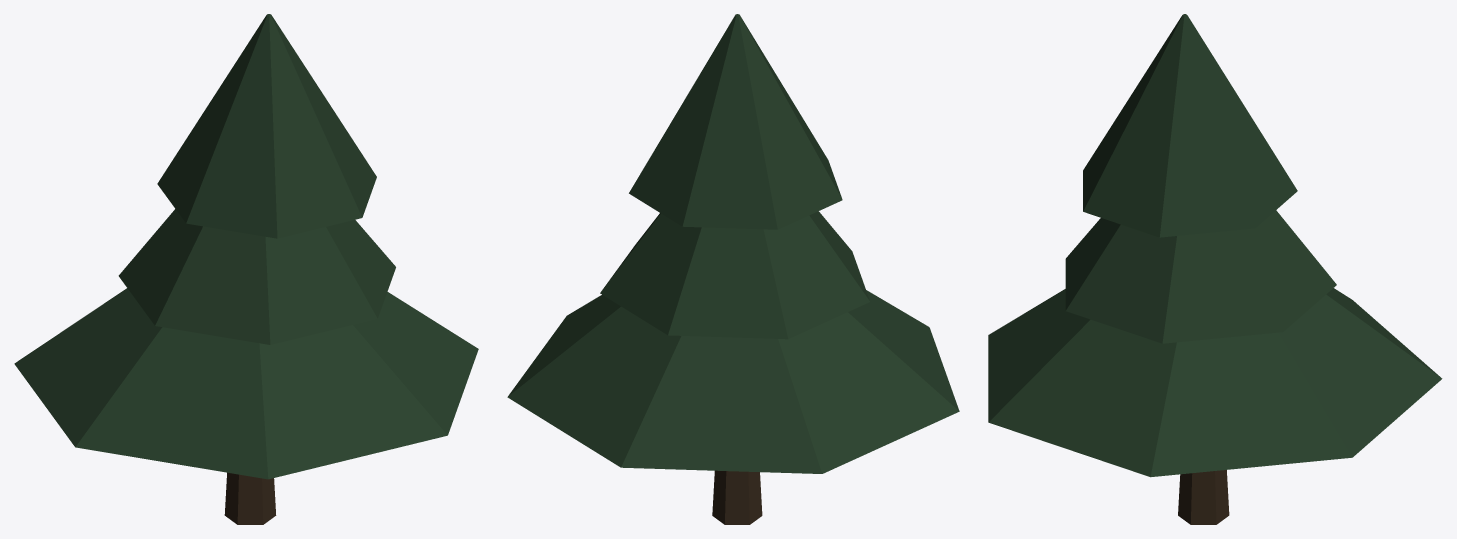
The model's file is pine_valley_2.glb.
3 views of the same model, side by side, from view 1: azimuth 30°, elevation 25°; view 2: azimuth 150°, elevation 25°; view 3: azimuth 270°, elevation 25° (orthographic). The views are drawn at different scales.
Parts seen in each view (by area): view 1: pine_valley_2; view 2: pine_valley_2; view 3: pine_valley_2.
Boxes of the visible parts, x1,y1,x2,y2 form: pine_valley_2: (14,14,478,524); pine_valley_2: (507,14,959,524); pine_valley_2: (988,14,1442,524).
Size of what is drawn, in the model's own units: 3.79 by 4.54 by 3.7.
